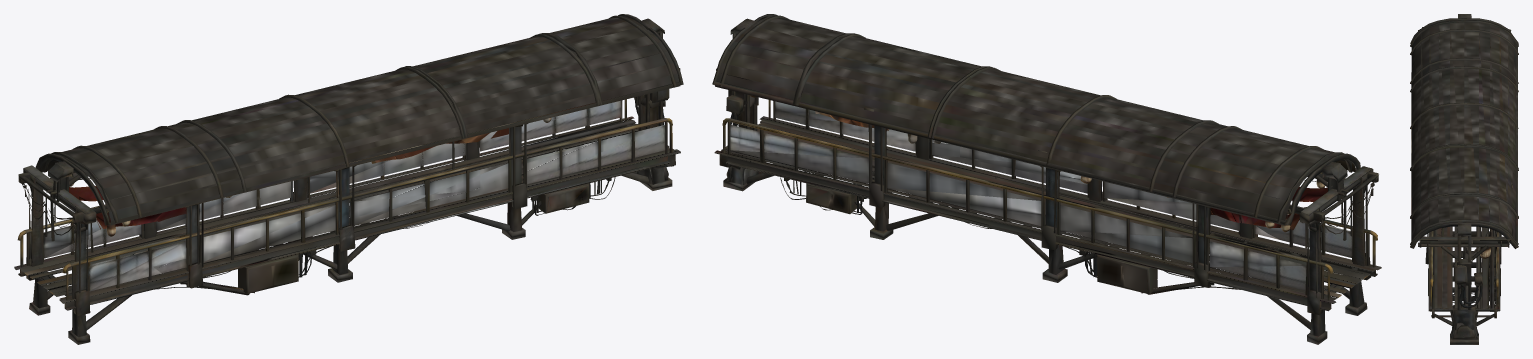
Rendered from walkway.glb.
3 views of the same model, side by side, from view 1: azimuth 30°, elevation 25°; view 2: azimuth 150°, elevation 25°; view 3: azimuth 270°, elevation 25° (orthographic). The views are drawn at different scales.
Parts seen in each view (by area): view 1: walkway; view 2: walkway; view 3: walkway.
Part boxes in pixels (<box>): walkway: <box>14,14,683,344</box>; walkway: <box>712,14,1381,344</box>; walkway: <box>1410,14,1518,344</box>.
Bounding box in the file's own units: 14 × 3.42 × 2.89.
Materials: 1 (1 with a texture image).
